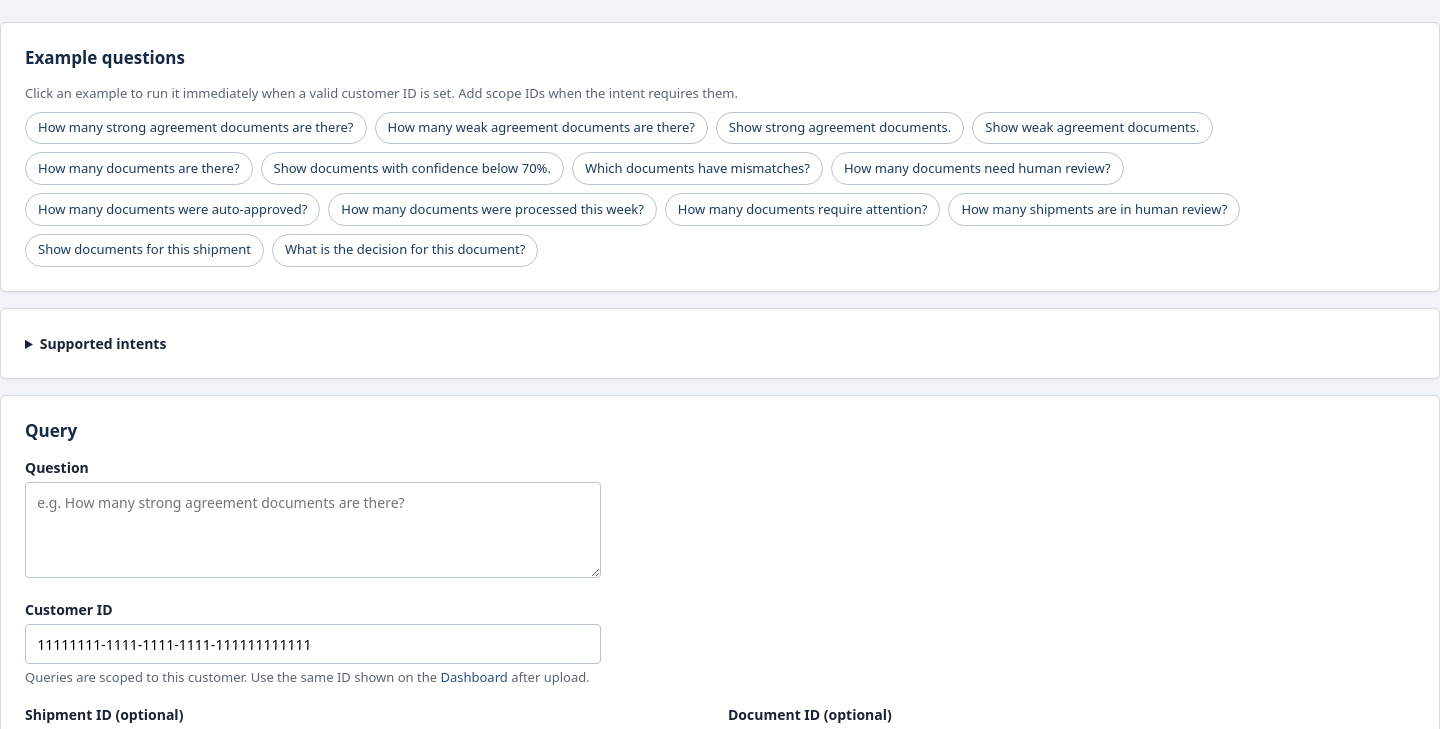
Test: QueryPage › renders FAILURE status
The image size is (1440, 729).
In the text box labelled "Question": (313,530) [25, 482, 601, 578], type "Summarize run"
(page scrolled)
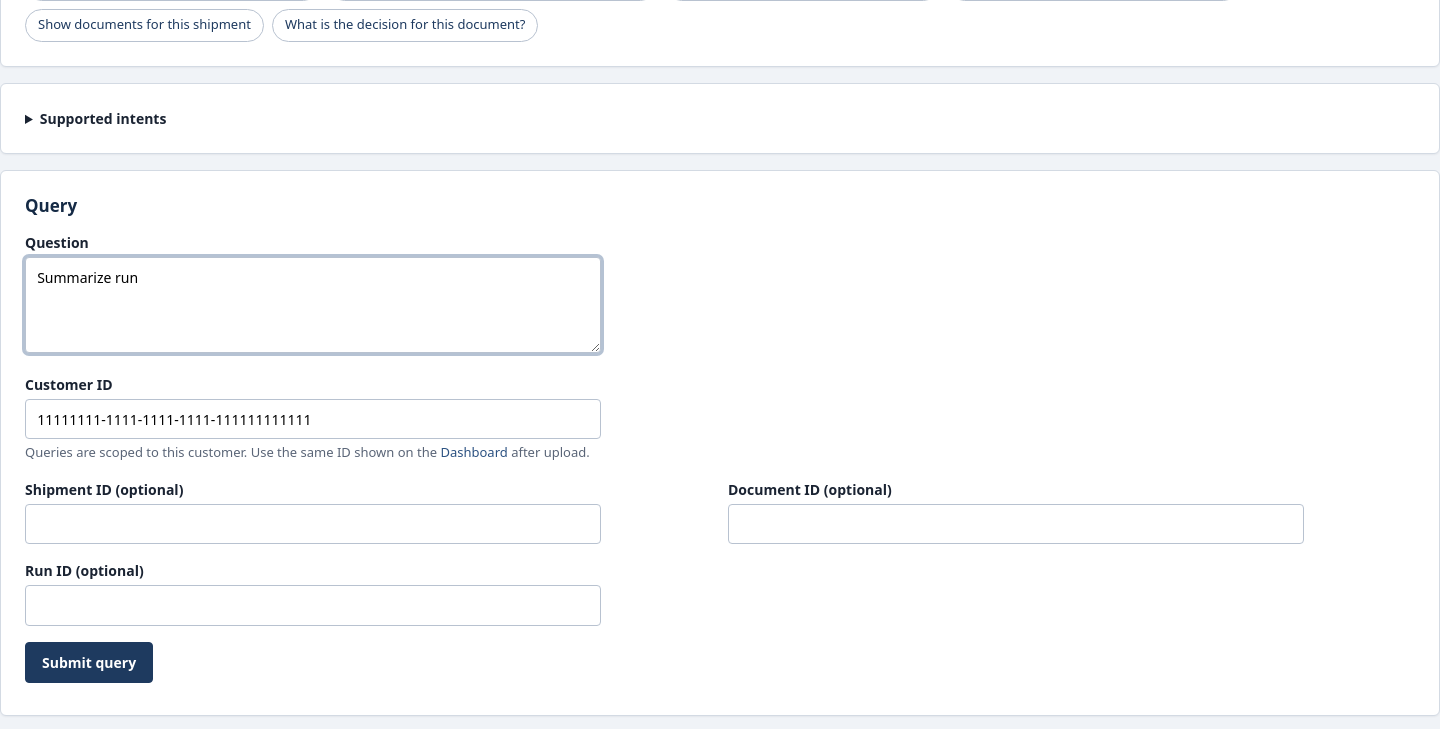
Click the button "Submit query": (89,662) [25, 642, 153, 683]
(page scrolled)
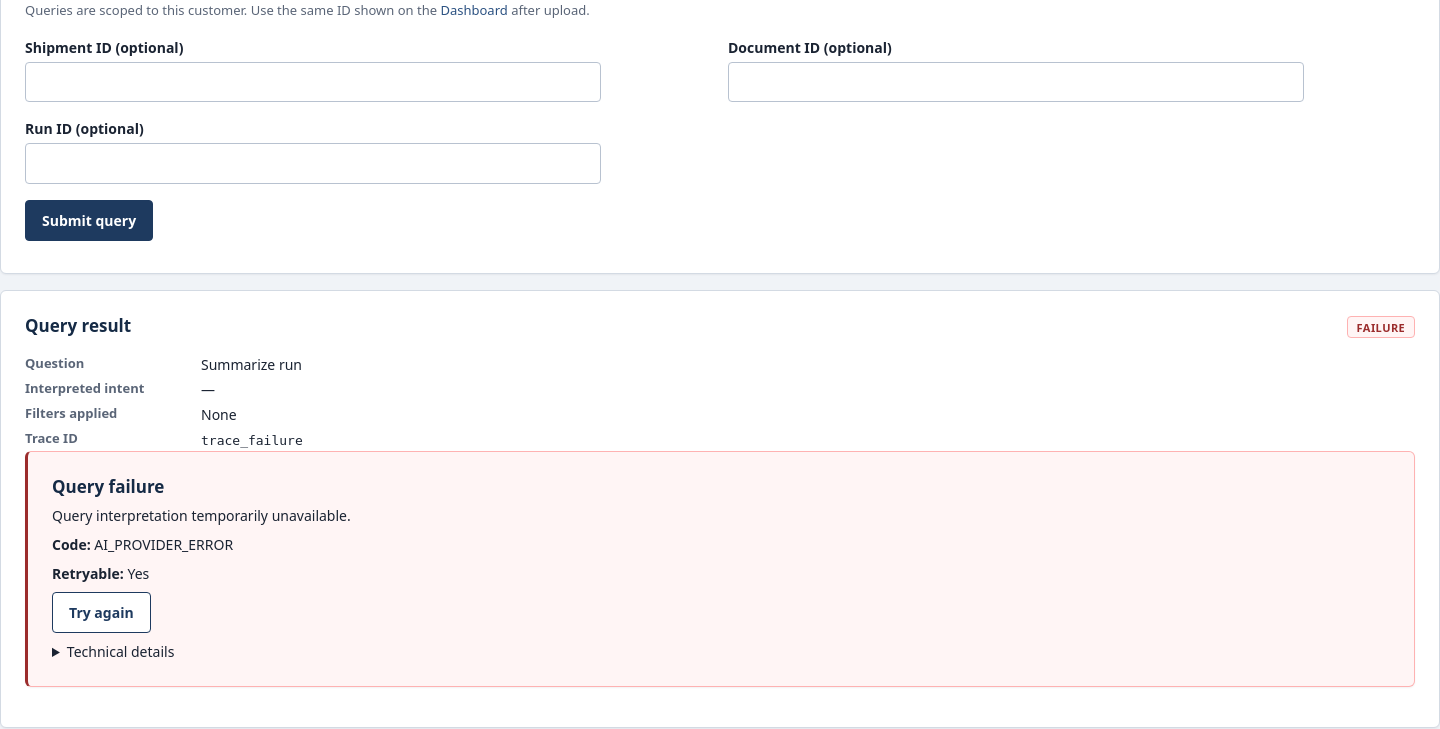
Expected: the text "Query interpretation temporarily unavailable." is shown, [52, 506, 351, 525]
Expected: the text "FAILURE" is shown, [1347, 316, 1415, 338]
